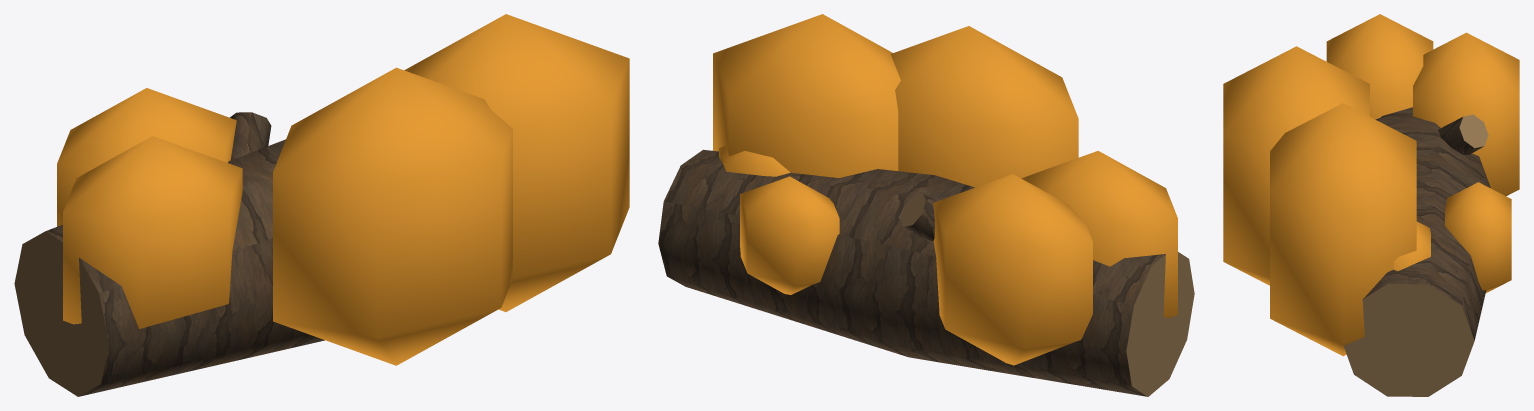
The picture shows the model from 3 angles, left to right: view 1: azimuth 30°, elevation 25°; view 2: azimuth 150°, elevation 25°; view 3: azimuth 270°, elevation 25°; orthographic projection. The views are drawn at different scales.
Visible parts, largest first — view 1: Fallen crooked trunk; view 2: Fallen crooked trunk; view 3: Fallen crooked trunk.
Boxes of the visible parts, <box> form: Fallen crooked trunk: <box>14,14,629,396</box>; Fallen crooked trunk: <box>658,14,1194,396</box>; Fallen crooked trunk: <box>1223,14,1519,396</box>.
Size of the model in its own units: 4.21 by 2.26 by 2.33.
Materials: 3 (1 with a texture image).
